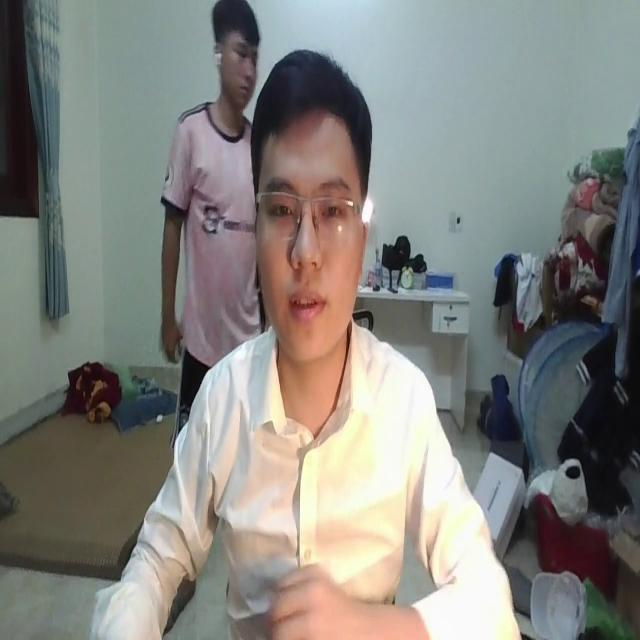extra_person: (159, 0, 275, 437)
student: (88, 49, 524, 640)
